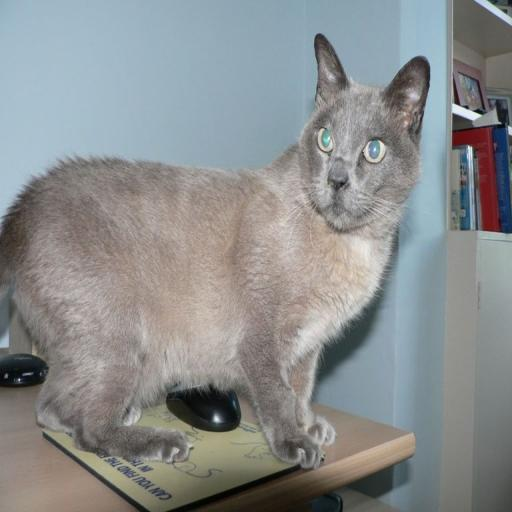cat: (0, 33, 431, 470)
